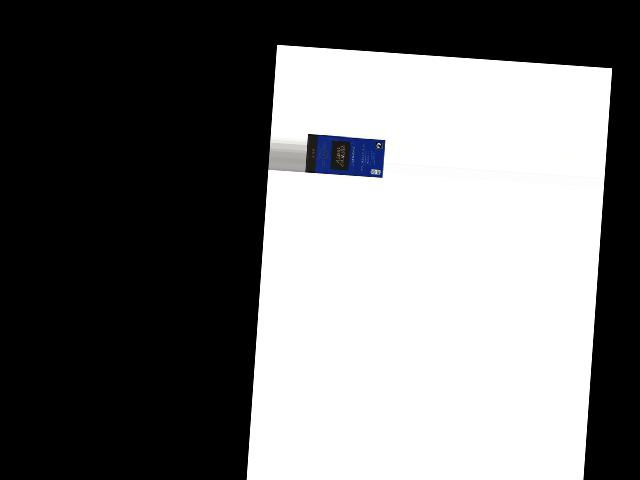chocolate: (305, 133, 384, 178)
